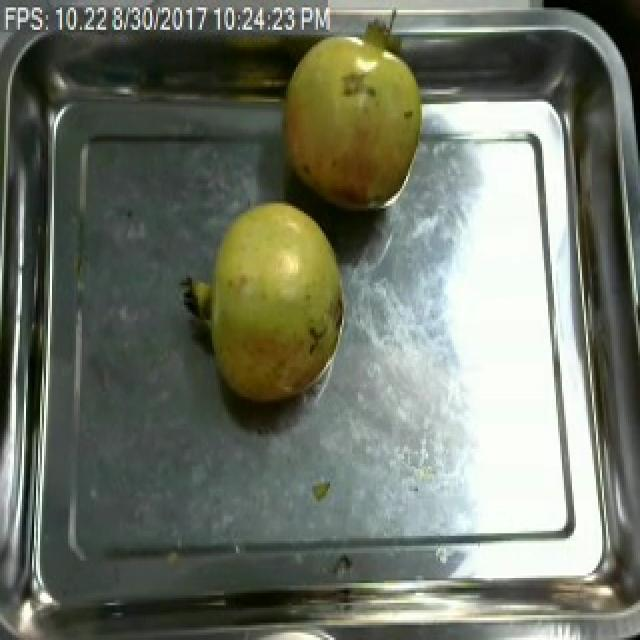fruit: (180, 191, 350, 414), (272, 25, 430, 221)
